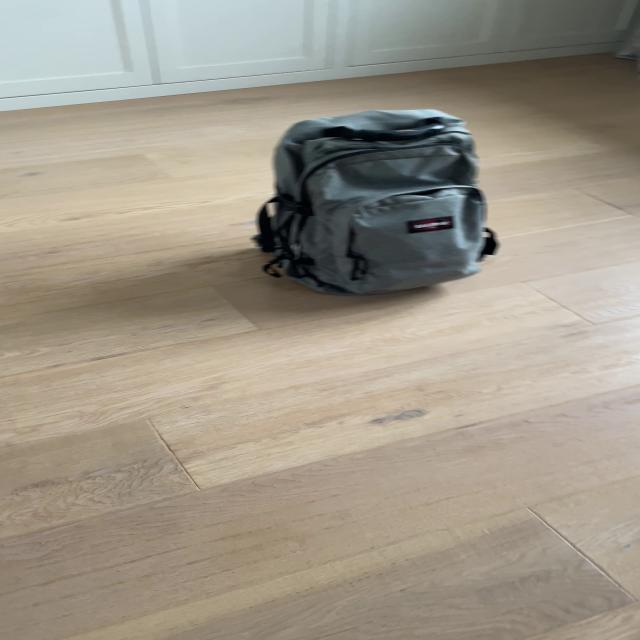backpack: (245, 99, 505, 302)
